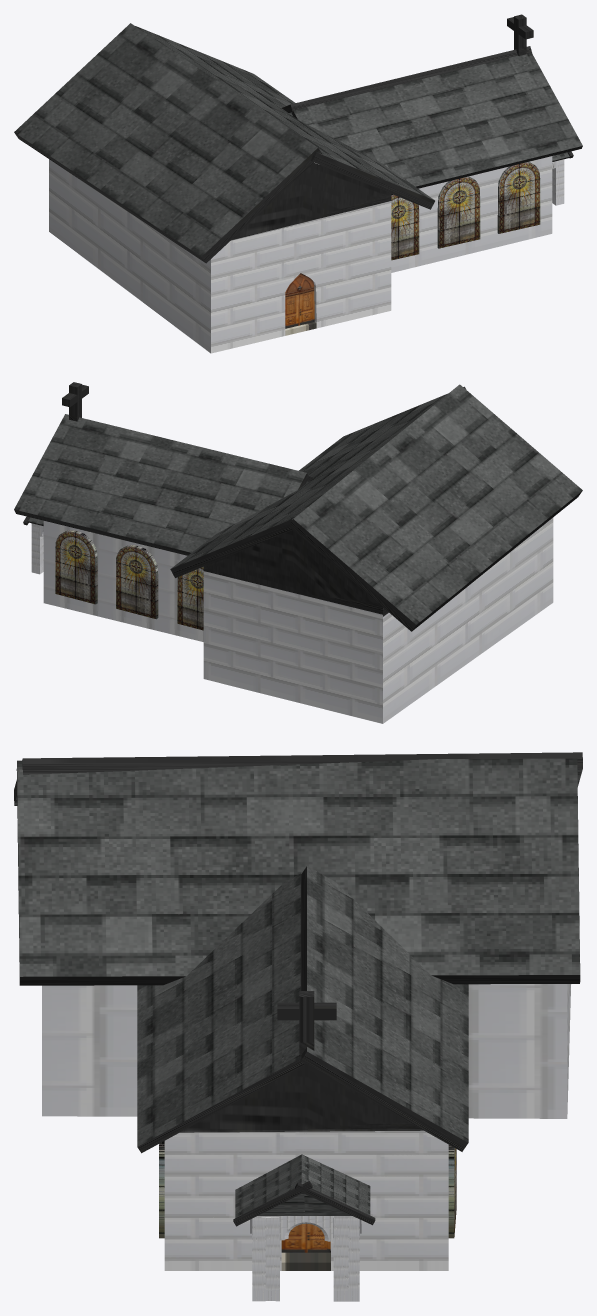
Rendered from Cult Church.fbx.
3 views of the same model, one above another, from view 1: azimuth 30°, elevation 25°; view 2: azimuth 150°, elevation 25°; view 3: azimuth 270°, elevation 25° (orthographic). The views are drawn at different scales.
Visible parts, largest first — view 1: Cube.012; view 2: Cube.012; view 3: Cube.012.
Part boxes in pixels (x1,y1,x2,y2): Cube.012: (14, 14, 582, 353); Cube.012: (14, 382, 582, 723); Cube.012: (14, 752, 582, 1301).
Bounding box in the file's own units: 27657 × 10912 × 18970.
Materials: 9 (9 with a texture image).
